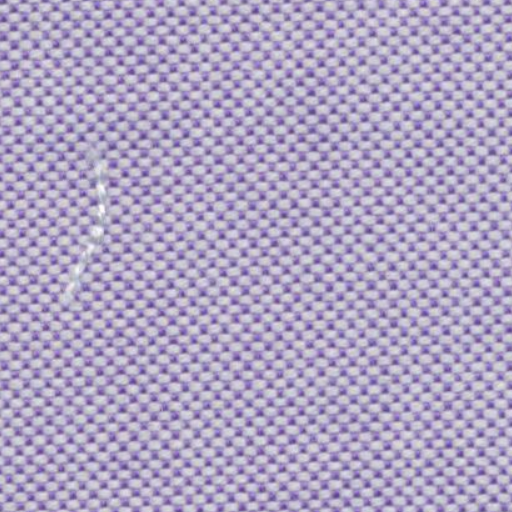DuanSha: (48, 146, 132, 308)
